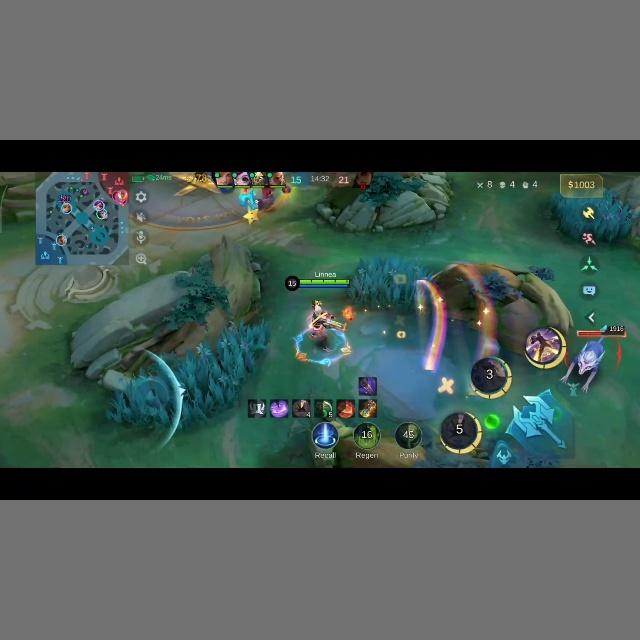blue_baff: (569, 339, 606, 390)
hp_enemy: (574, 326, 626, 338)
hp_self: (295, 278, 350, 287)
